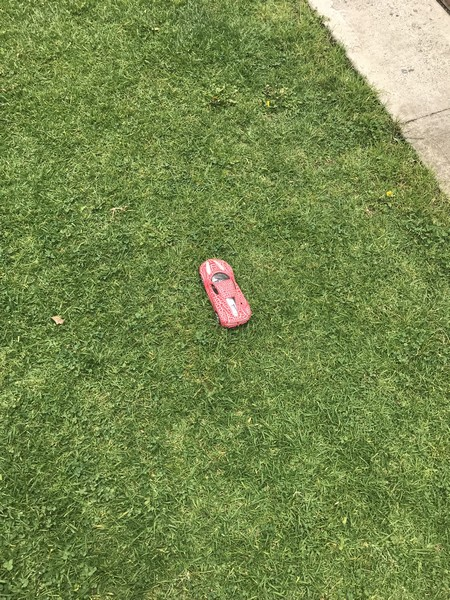RC: (197, 255, 253, 329)
